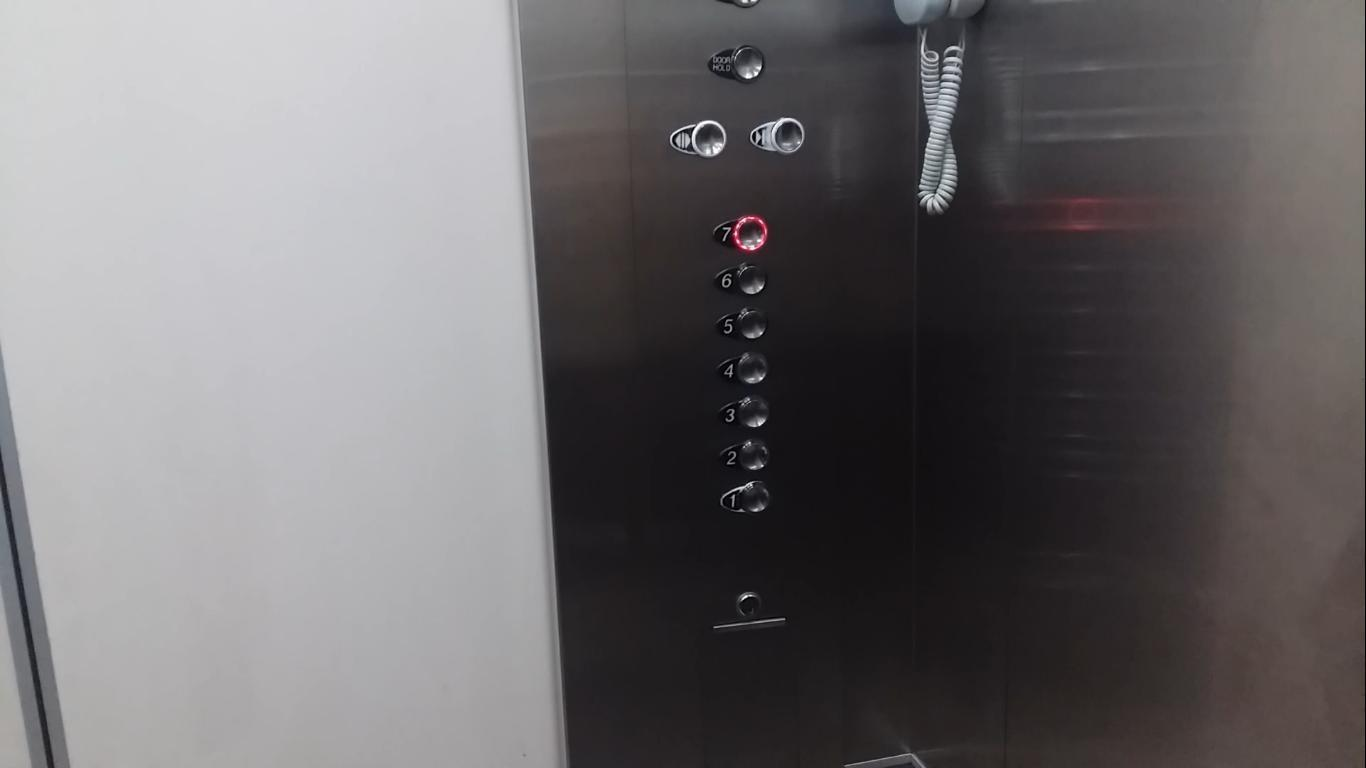1: (716, 477, 775, 518)
2: (714, 433, 773, 474)
3: (713, 390, 772, 431)
4: (712, 346, 771, 387)
5: (712, 302, 771, 343)
6: (710, 257, 769, 298)
7: (710, 211, 769, 252)
close: (748, 114, 807, 155)
open: (668, 116, 727, 157)
unknown: (704, 39, 767, 82)
